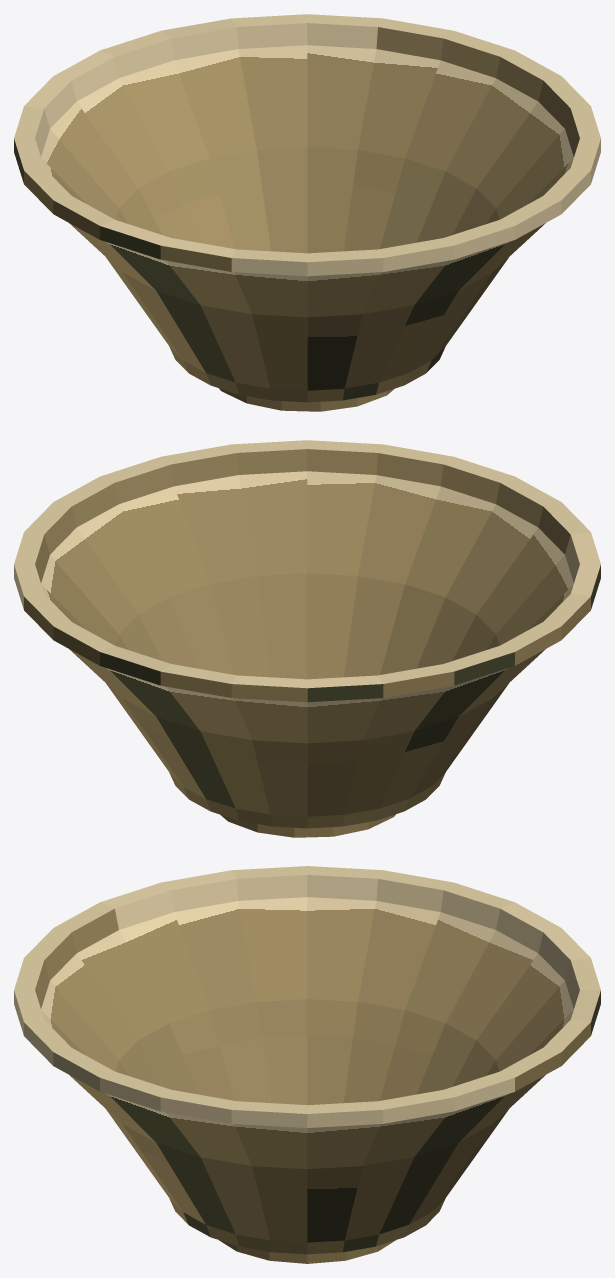
The model's file is vessel-koishiwara.glb.
3 views of the same model, one above another, from view 1: azimuth 30°, elevation 25°; view 2: azimuth 150°, elevation 25°; view 3: azimuth 270°, elevation 25° (orthographic).
Visible parts, largest first — view 1: vessel-koishiwara/complete-inner-outer-shell-with-drainage, vessel-koishiwara/complete-open-foot-ring; view 2: vessel-koishiwara/complete-inner-outer-shell-with-drainage, vessel-koishiwara/complete-open-foot-ring; view 3: vessel-koishiwara/complete-inner-outer-shell-with-drainage, vessel-koishiwara/complete-open-foot-ring.
Part boxes in pixels (x1=…): vessel-koishiwara/complete-inner-outer-shell-with-drainage: x1=14, y1=14, x2=600, y2=402; vessel-koishiwara/complete-open-foot-ring: x1=219, y1=388, x2=393, y2=411; vessel-koishiwara/complete-inner-outer-shell-with-drainage: x1=14, y1=440, x2=600, y2=828; vessel-koishiwara/complete-open-foot-ring: x1=221, y1=814, x2=395, y2=837; vessel-koishiwara/complete-inner-outer-shell-with-drainage: x1=14, y1=866, x2=600, y2=1254; vessel-koishiwara/complete-open-foot-ring: x1=219, y1=1240, x2=395, y2=1263.
Bounding box in the file's own units: 0.3788 × 0.165 × 0.3788.
Materials: 1 (1 with a texture image).
